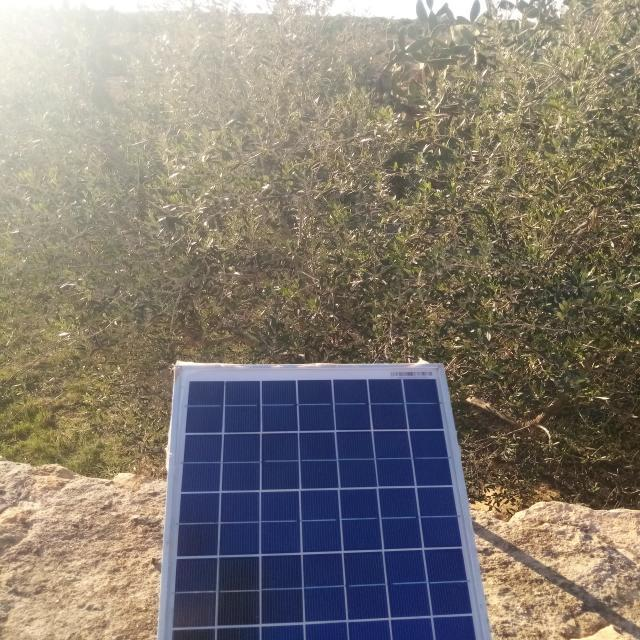faulty: (162, 365, 486, 638)
